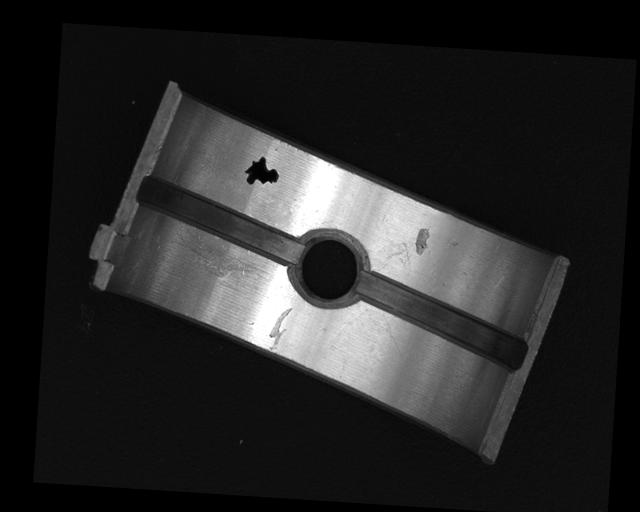blot: (244, 154, 281, 187)
bruise: (414, 226, 431, 256)
gap: (351, 271, 529, 369), (135, 175, 304, 261)
hole: (289, 229, 363, 304)
nick: (267, 305, 293, 352)
scratch: (170, 229, 269, 284)
